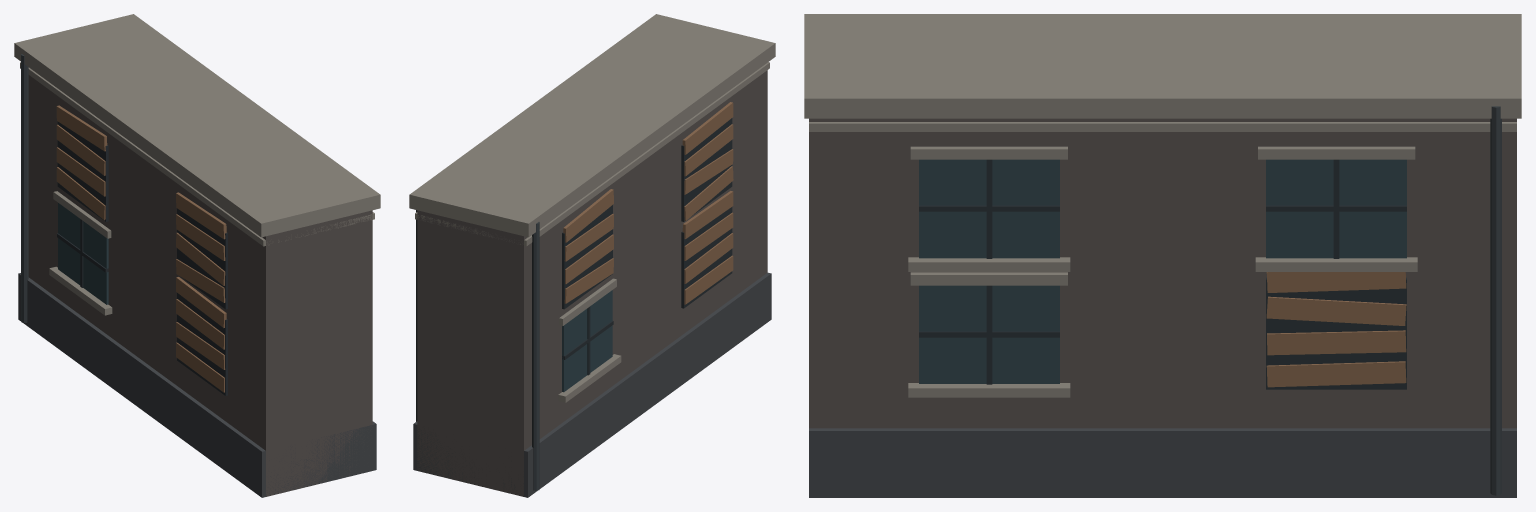
File: building_boarded.glb
3 renders of one model, left to right at view 1: azimuth 30°, elevation 25°; view 2: azimuth 150°, elevation 25°; view 3: azimuth 270°, elevation 25°, orthographic. The views are drawn at different scales.
Visible parts, largest first — view 1: building_boarded; view 2: building_boarded; view 3: building_boarded.
Part boxes in pixels (left/top/right/bottom): building_boarded: left=14, top=14, right=380, bottom=497; building_boarded: left=409, top=14, right=775, bottom=497; building_boarded: left=804, top=14, right=1521, bottom=497.
Bounding box in the file's own units: 1.78 × 3.83 × 6.2.
